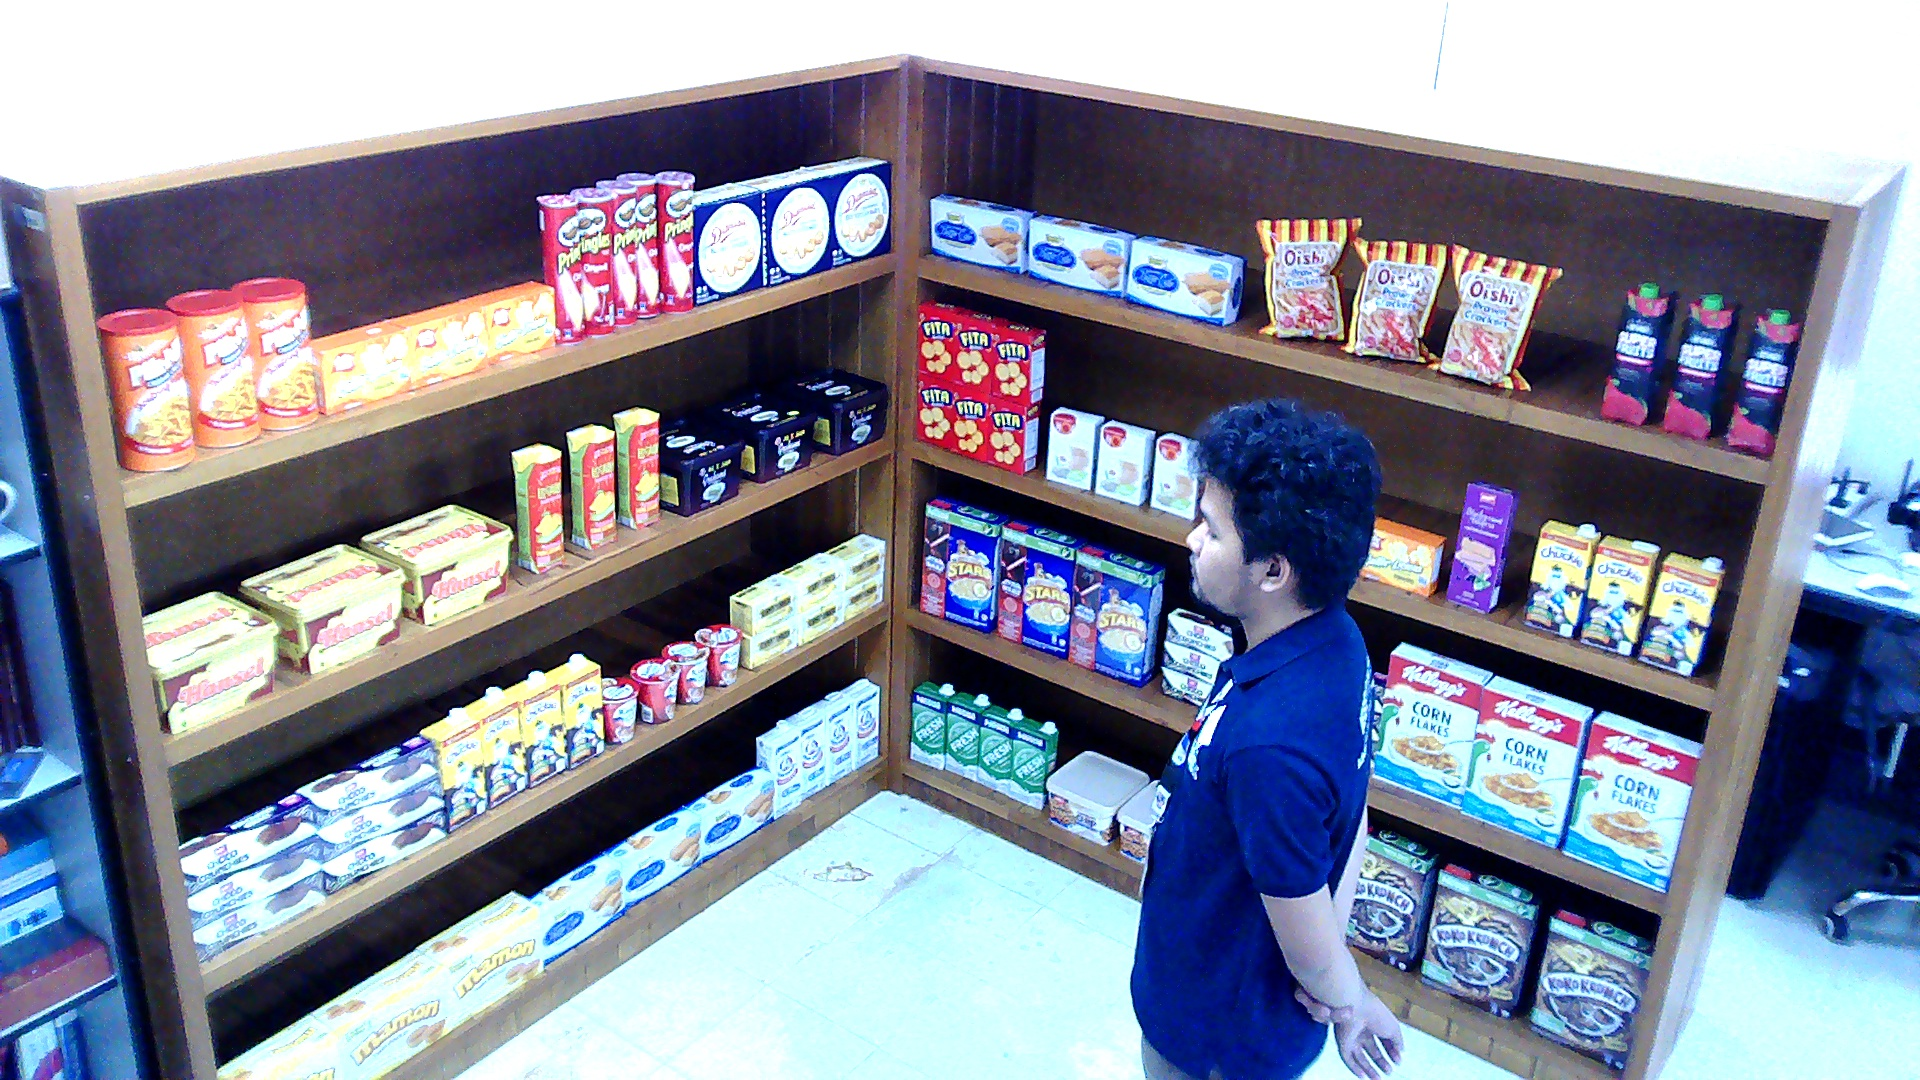Bear brand: (756, 719, 801, 816), (785, 704, 824, 798), (813, 691, 852, 783), (843, 677, 879, 769)
Buttercake: (1125, 234, 1245, 326), (528, 850, 624, 963), (606, 805, 699, 911), (1025, 213, 1136, 296), (927, 191, 1035, 272), (684, 765, 774, 859)
Butterlicious: (384, 299, 486, 389), (312, 319, 408, 416), (462, 279, 555, 365), (1359, 517, 1446, 596)
Camomille: (729, 573, 795, 634), (779, 551, 842, 612), (824, 533, 881, 587), (741, 618, 795, 667), (798, 592, 843, 644), (846, 571, 882, 620)
Choco Crunchies: (177, 792, 315, 895), (296, 736, 437, 828), (192, 873, 324, 965), (186, 837, 318, 929), (318, 778, 444, 864), (323, 807, 446, 893), (1164, 607, 1230, 659), (1160, 639, 1217, 684), (1161, 666, 1212, 706)
Chocolate Chips: (1044, 749, 1149, 846), (1116, 780, 1158, 863)
Chuckie: (1638, 551, 1722, 677), (1578, 533, 1659, 655), (1523, 517, 1598, 639), (420, 709, 486, 831), (465, 686, 525, 808), (504, 670, 564, 787), (546, 652, 603, 769)
Danisa: (738, 166, 831, 285), (803, 154, 890, 267), (692, 180, 761, 304)
Fita: (993, 321, 1044, 404), (953, 310, 1004, 391), (918, 297, 966, 378), (987, 396, 1038, 472), (951, 382, 987, 461), (915, 372, 951, 448)
Fresh Milk: (975, 704, 1026, 794), (1008, 718, 1056, 810), (944, 691, 989, 781), (908, 682, 953, 770)
Grahams: (705, 389, 816, 481), (777, 367, 885, 453), (660, 414, 744, 515)
Hansel: (237, 542, 405, 675), (138, 590, 279, 734), (357, 504, 513, 626)
Head: (1161, 391, 1395, 623)
Honey Stars: (1065, 540, 1164, 686), (918, 492, 1011, 632), (996, 515, 1086, 659)
Kellogg Corn Flakes: (1560, 711, 1704, 893), (1457, 675, 1592, 848), (1371, 640, 1491, 807)
Kimchi Noodles: (630, 657, 678, 722), (660, 638, 708, 701), (693, 623, 741, 684), (600, 675, 636, 743)
Koko Krunch: (1530, 904, 1656, 1071), (1419, 857, 1545, 1019), (1344, 819, 1440, 972)
Locally Mango: (510, 441, 564, 571), (563, 423, 614, 549), (612, 405, 657, 531)
Mamon: (309, 947, 453, 1075), (417, 890, 543, 1025), (216, 1014, 345, 1077)
Oishi Prawn: (1425, 241, 1563, 389), (1335, 229, 1449, 362), (1254, 216, 1362, 340)
Pik-nik: (95, 306, 194, 470), (164, 288, 257, 445), (231, 276, 318, 429)
Pringles: (537, 193, 585, 344), (570, 187, 615, 335), (614, 171, 659, 317), (594, 178, 636, 324), (653, 171, 692, 313)
Super Fruits: (1722, 306, 1803, 459), (1662, 295, 1740, 439), (1601, 281, 1676, 423)
Wafer: (1445, 479, 1520, 612)
iHop: (1095, 420, 1155, 503), (1046, 405, 1103, 488), (1149, 432, 1197, 520)
